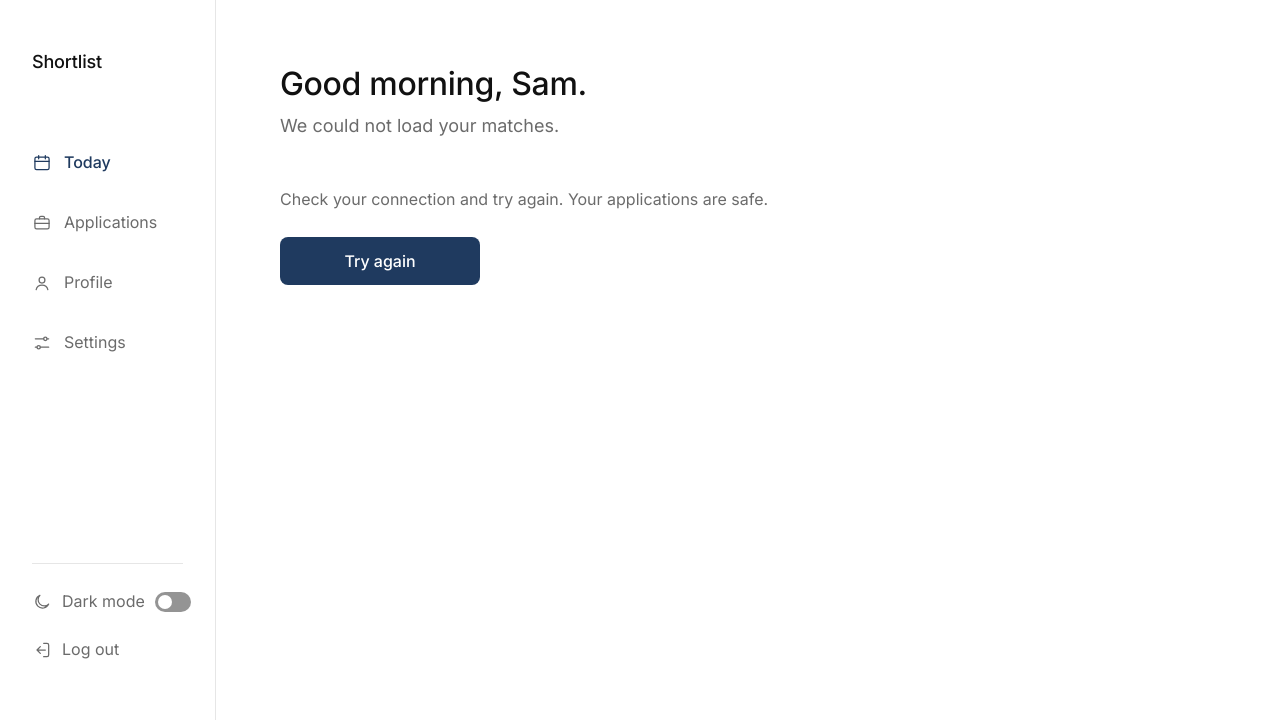
Test: Today › shows the error state and retries
expect the text "We could not load your matches." is shown: met, box x1=280 y1=115 x2=559 y2=136
Click the button "Try again" at (380, 261), box x1=280 y1=237 x2=480 y2=285
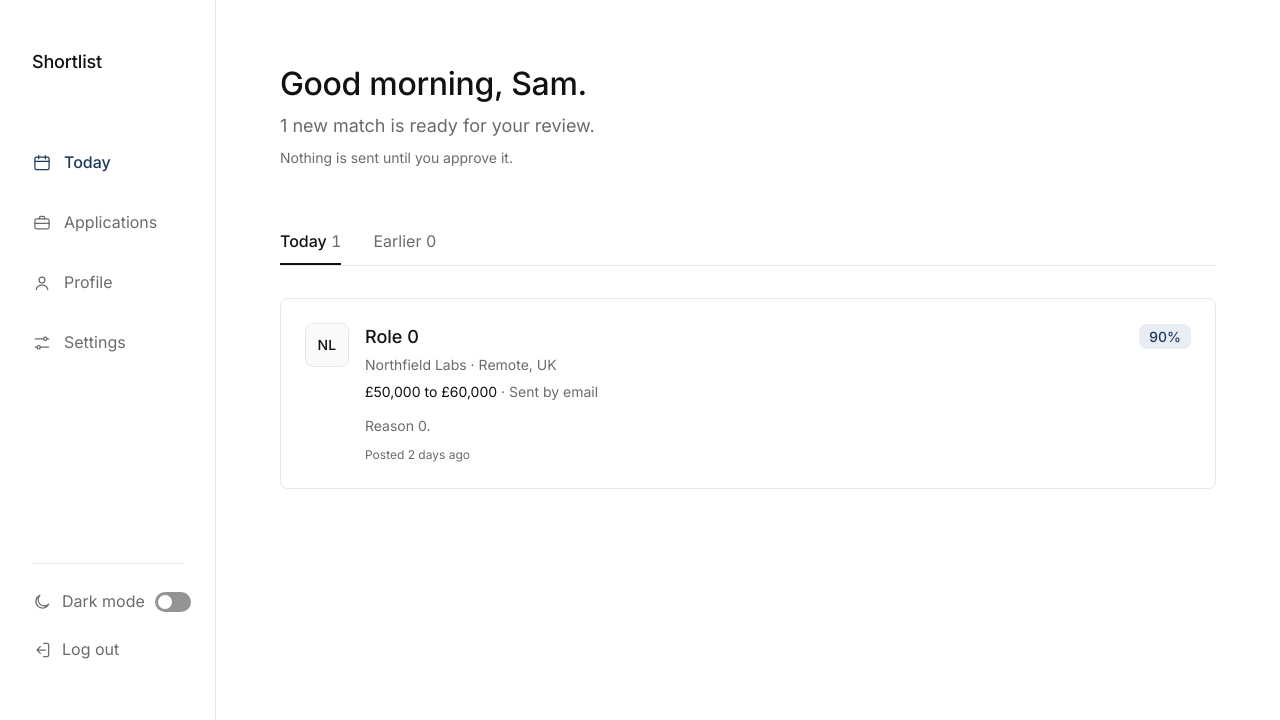
expect the text "1 new match is ready for your review." is shown: met, box x1=280 y1=115 x2=595 y2=136
